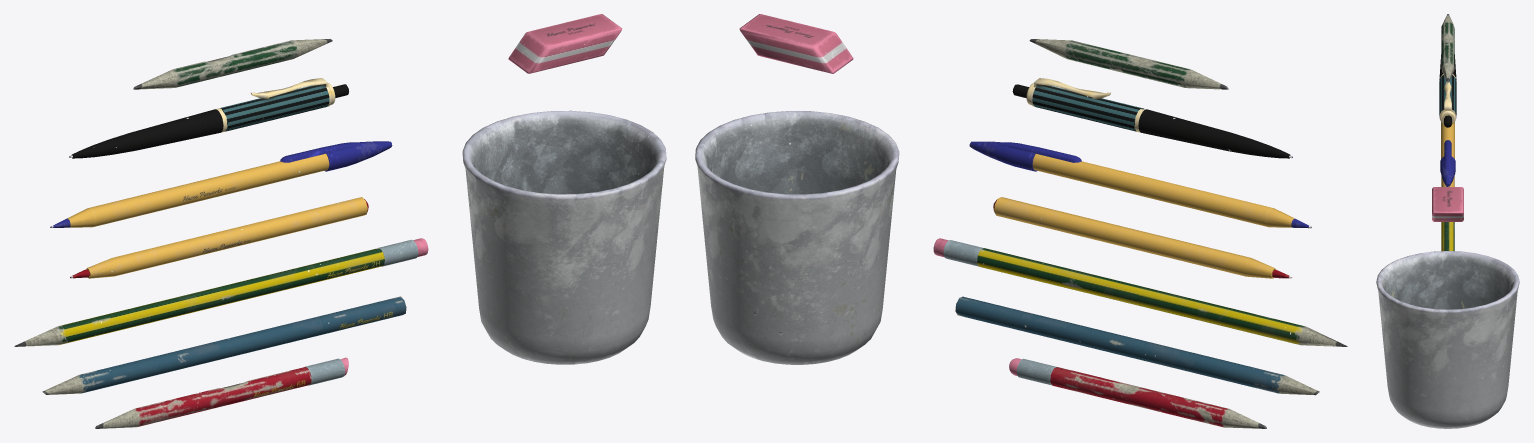
Rendered from stationery_supplies.glb.
3 views of the same model, side by side, from view 1: azimuth 30°, elevation 25°; view 2: azimuth 150°, elevation 25°; view 3: azimuth 270°, elevation 25° (orthographic). The views are drawn at different scales.
Parts seen in each view (by area): view 1: stationery_supplies_pen_red; view 2: stationery_supplies_pen_red; view 3: stationery_supplies_pen_red.
Boxes of the visible parts, x1,y1,x2,y2 form: stationery_supplies_pen_red: (14,14,666,428); stationery_supplies_pen_red: (695,14,1347,428); stationery_supplies_pen_red: (1376,14,1519,428).
Size of the model in its own units: 0.3019 by 0.1644 by 0.0837.
1 material, 1 textured.
